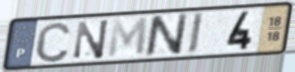4: (225, 9, 254, 52)
C: (33, 20, 74, 64)
I: (186, 11, 206, 57)
M: (106, 15, 150, 60)
N: (143, 11, 190, 59), (72, 18, 111, 60)
